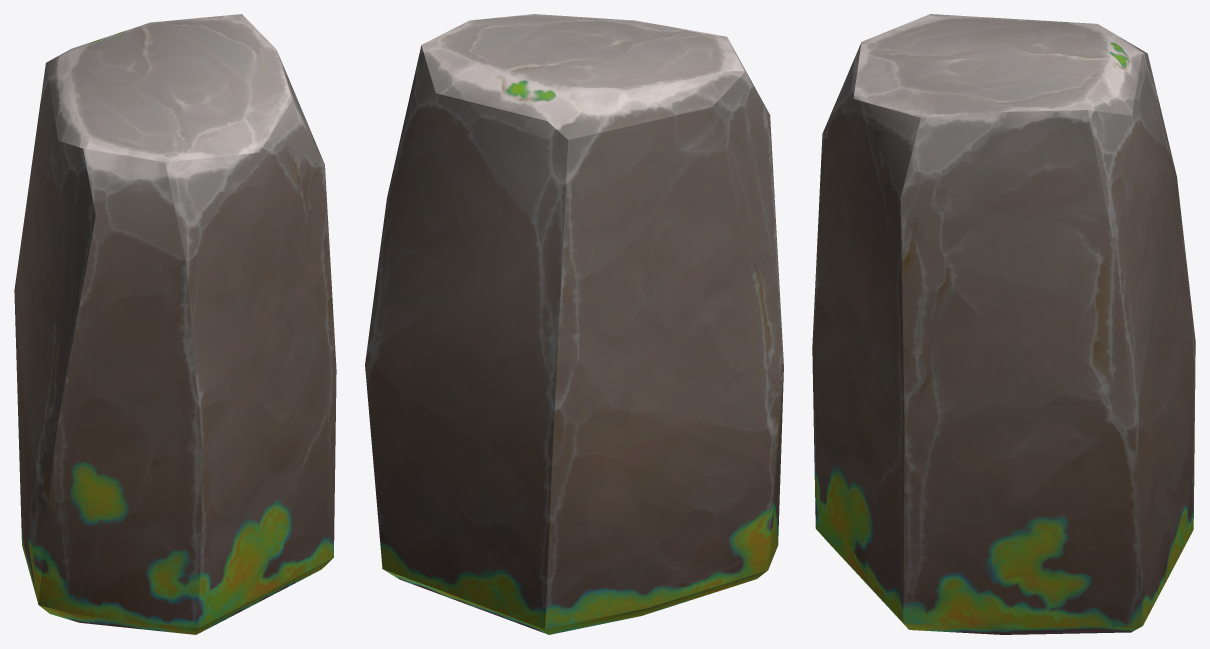
File: Rock2.glb
The picture shows the model from 3 angles, left to right: view 1: azimuth 30°, elevation 25°; view 2: azimuth 150°, elevation 25°; view 3: azimuth 270°, elevation 25°; orthographic projection. The views are drawn at different scales.
Visible parts, largest first — view 1: Stone_5_Low; view 2: Stone_5_Low; view 3: Stone_5_Low.
Part boxes in pixels (x1,y1,x2,y2): Stone_5_Low: (14, 14, 336, 634); Stone_5_Low: (365, 14, 783, 634); Stone_5_Low: (812, 14, 1195, 634).
Size of the model in its own units: 1.04 by 1.66 by 1.07.
1 material, 1 textured.
